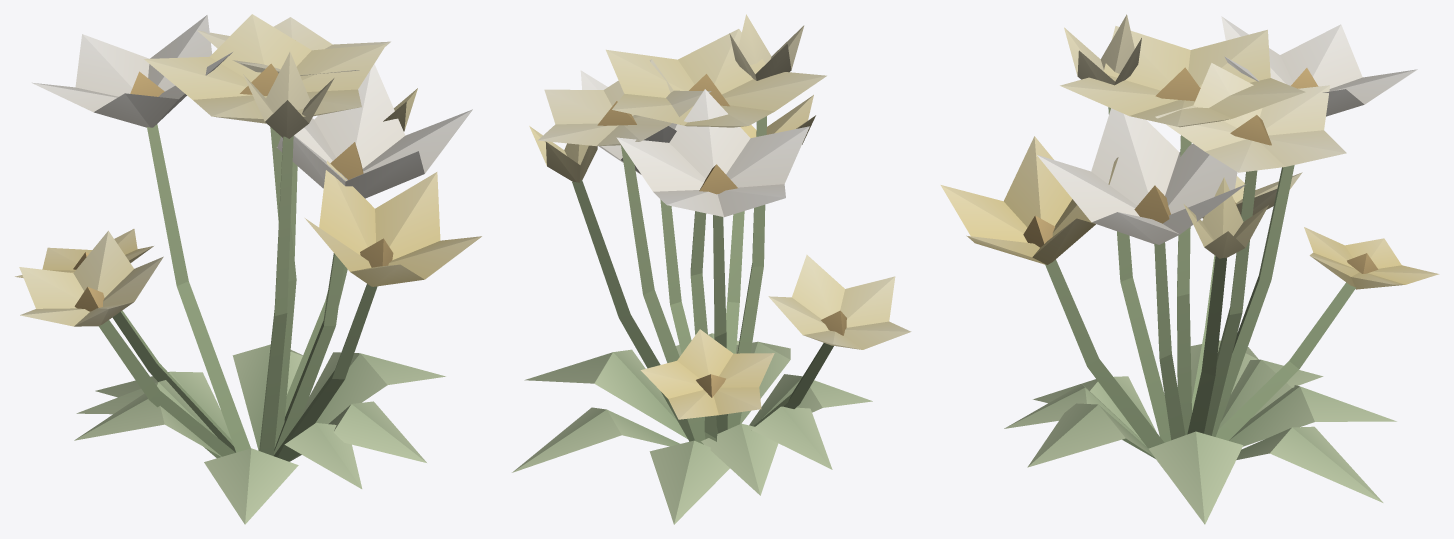
The model's file is flower-cluster-b.glb.
3 views of the same model, side by side, from view 1: azimuth 30°, elevation 25°; view 2: azimuth 150°, elevation 25°; view 3: azimuth 270°, elevation 25° (orthographic). The views are drawn at different scales.
Visible parts, largest first — view 1: flower-cluster-b; view 2: flower-cluster-b; view 3: flower-cluster-b.
Part boxes in pixels (x1,y1,x2,y2): flower-cluster-b: [15, 14, 481, 524]; flower-cluster-b: [512, 14, 911, 524]; flower-cluster-b: [940, 14, 1439, 524].
Size of the model in its own units: 0.3163 by 0.3111 by 0.324.
